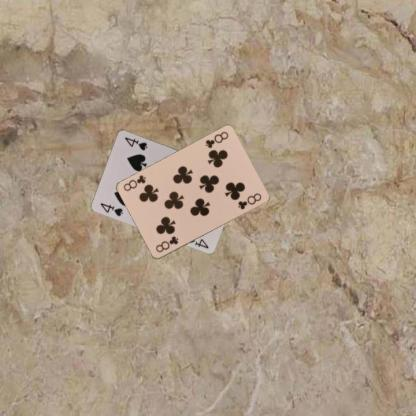4s: (98, 200, 124, 217)
8c: (203, 128, 229, 150), (153, 233, 180, 254)
